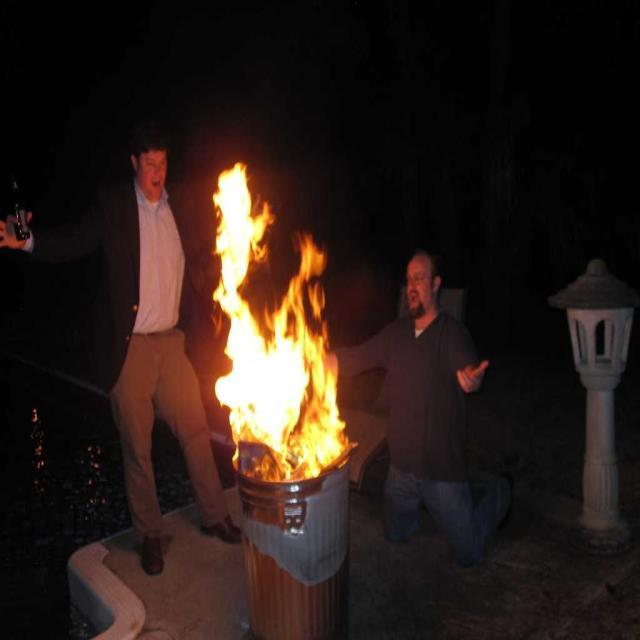Fire: (216, 228, 339, 457)
